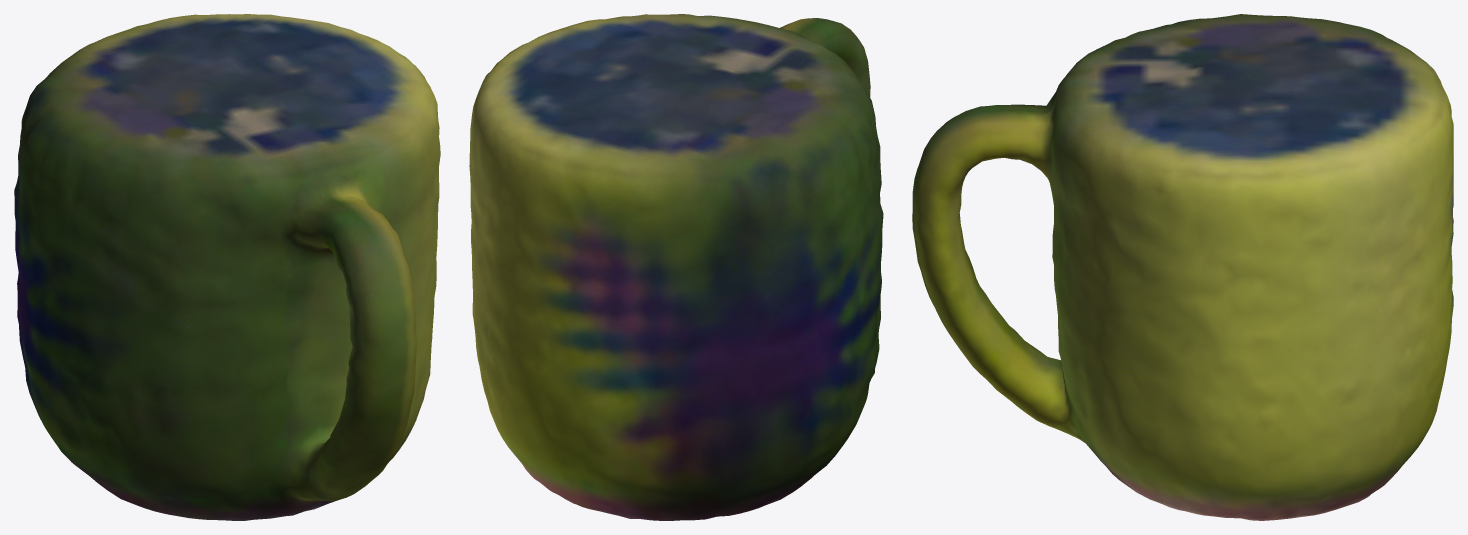
File: mug.glb
3 views of the same model, side by side, from view 1: azimuth 30°, elevation 25°; view 2: azimuth 150°, elevation 25°; view 3: azimuth 270°, elevation 25° (orthographic).
Parts seen in each view (by area): view 1: Mesh1; view 2: Mesh1; view 3: Mesh1.
Part boxes in pixels (<box>): Mesh1: <box>14,14,440,520</box>; Mesh1: <box>469,14,883,520</box>; Mesh1: <box>912,14,1453,520</box>.
Size of the model in its own units: 0.9385 by 0.9692 by 1.2.
1 material, 1 textured.
